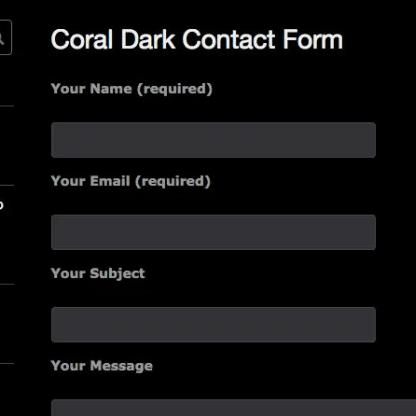field: (47, 120, 379, 161), (50, 213, 379, 252), (49, 306, 379, 343)
field_with_label: (42, 79, 382, 166), (45, 174, 382, 256), (46, 267, 383, 347)
